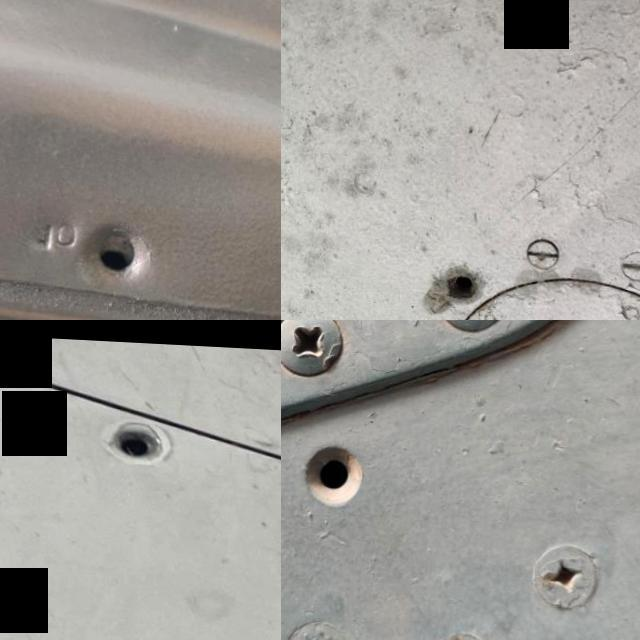Missing_Fastener: (41, 179, 192, 320), (281, 405, 407, 535), (420, 242, 507, 320), (91, 403, 196, 466)
